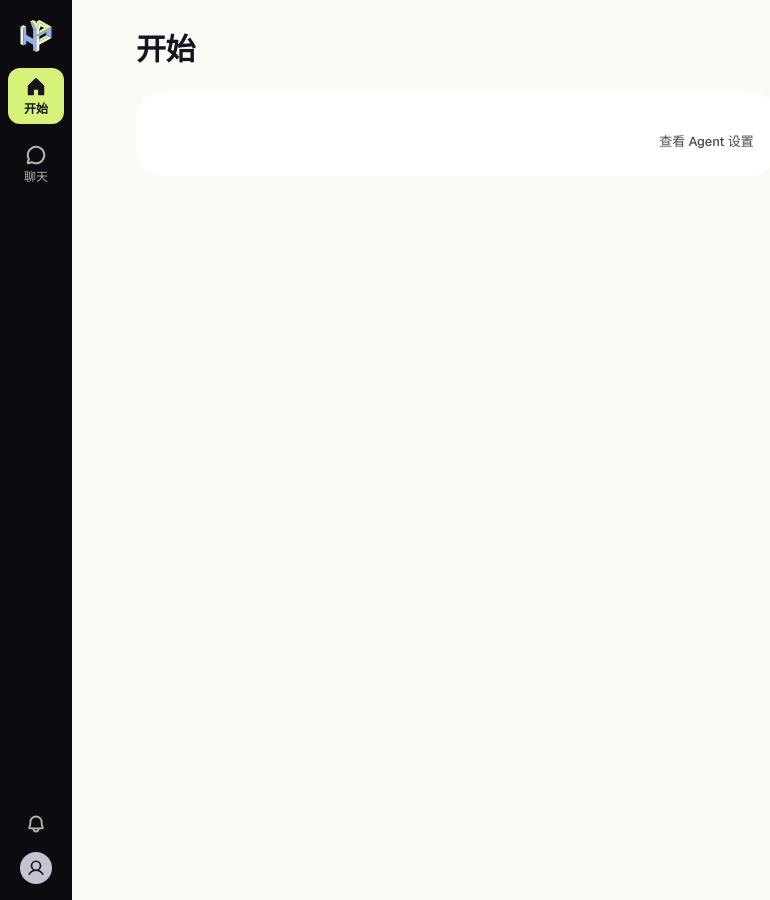
account menu › navigates to settings from the first account-menu item
Click the button named "我的账号与 Agent 设置菜单" at (36, 868), box [16,848,56,888]
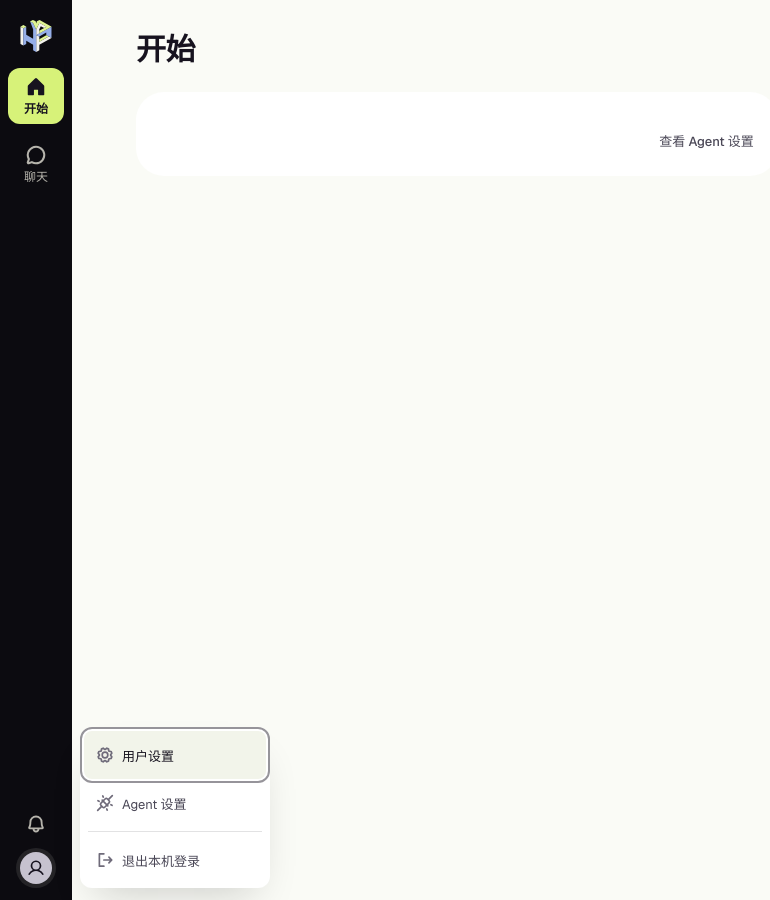
Expected: the menu items read "用户设置", "Agent 设置", "退出本机登录", in this order
Click the menu item "用户设置" at (175, 755), box [84,731,266,779]
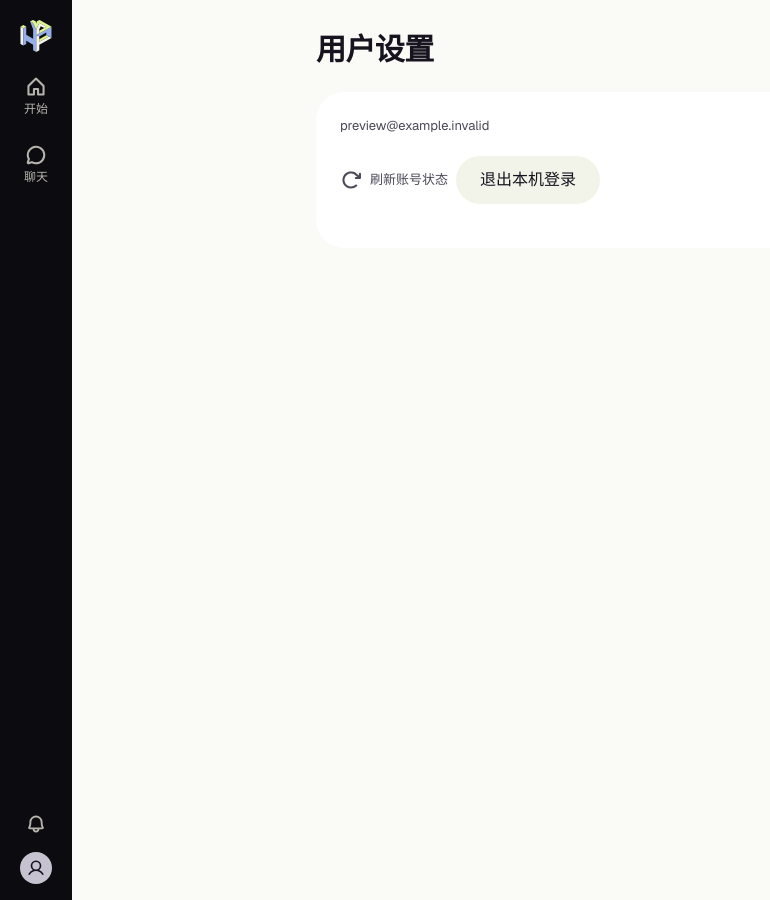
Expected: the heading "用户设置" is shown, [316,30,434,69]
Expected: the menu is gone
